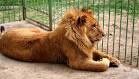lion: (2, 8, 128, 73)
